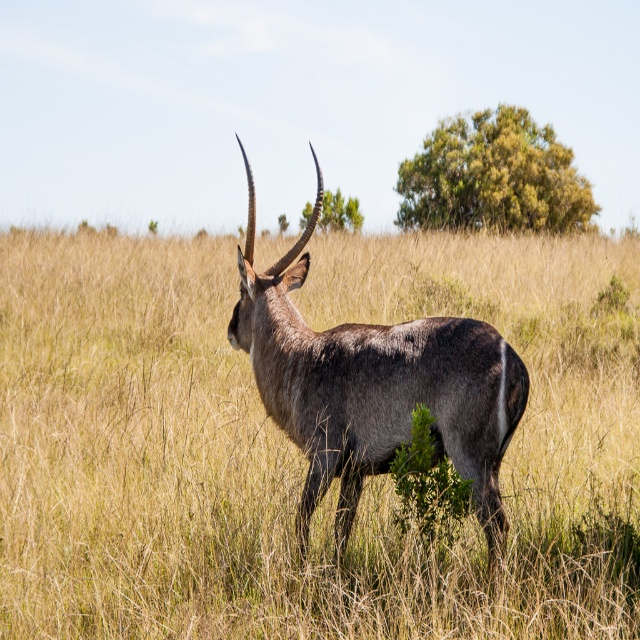Deer: (227, 132, 530, 583)
